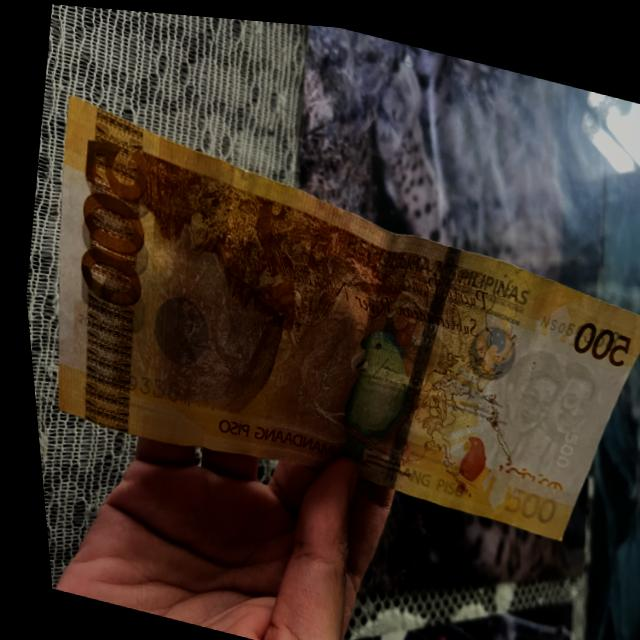security_thread: (372, 237, 457, 483)
see_through_mark: (482, 442, 562, 489)
value_watermark: (545, 415, 574, 463)
watermark: (483, 316, 601, 480)
